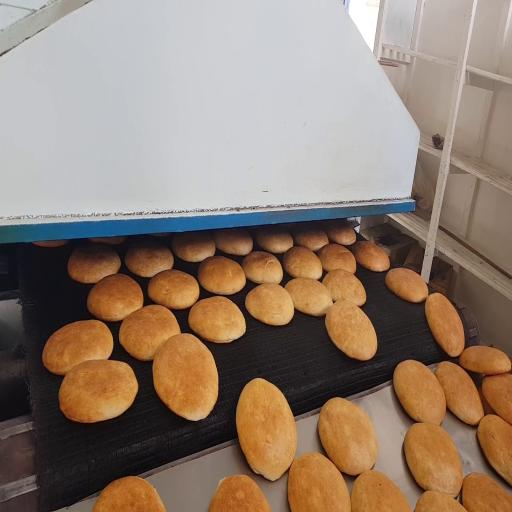bread: (236, 379, 297, 480), (153, 334, 218, 420), (59, 360, 138, 422), (318, 398, 378, 475), (404, 423, 463, 497), (43, 320, 113, 374), (288, 452, 350, 511), (393, 360, 446, 425), (119, 305, 180, 360), (435, 362, 483, 425), (326, 301, 377, 360), (87, 274, 143, 321), (188, 297, 245, 343), (351, 470, 411, 511), (425, 293, 464, 356), (93, 477, 165, 511), (478, 415, 511, 484), (209, 475, 270, 511), (68, 244, 121, 283), (148, 270, 199, 309), (246, 284, 294, 325), (462, 473, 511, 511), (198, 256, 245, 295), (285, 278, 332, 316), (125, 241, 173, 277), (322, 269, 366, 306), (459, 346, 510, 375), (482, 374, 511, 424), (386, 268, 428, 302), (242, 251, 283, 283), (172, 232, 215, 262), (283, 247, 322, 279), (318, 244, 356, 274), (352, 241, 389, 271), (256, 226, 293, 254), (213, 229, 252, 255), (415, 491, 465, 511), (293, 227, 328, 252), (323, 220, 356, 246), (477, 383, 495, 415), (89, 236, 126, 245), (33, 240, 68, 247), (150, 232, 170, 237)
